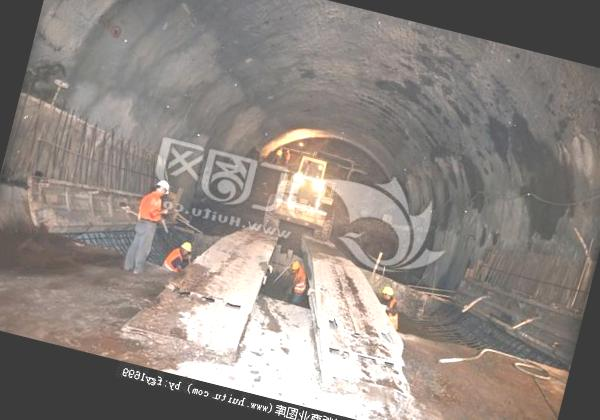no_vest: (132, 190, 172, 229)
person: (118, 171, 180, 281), (154, 234, 196, 282)
